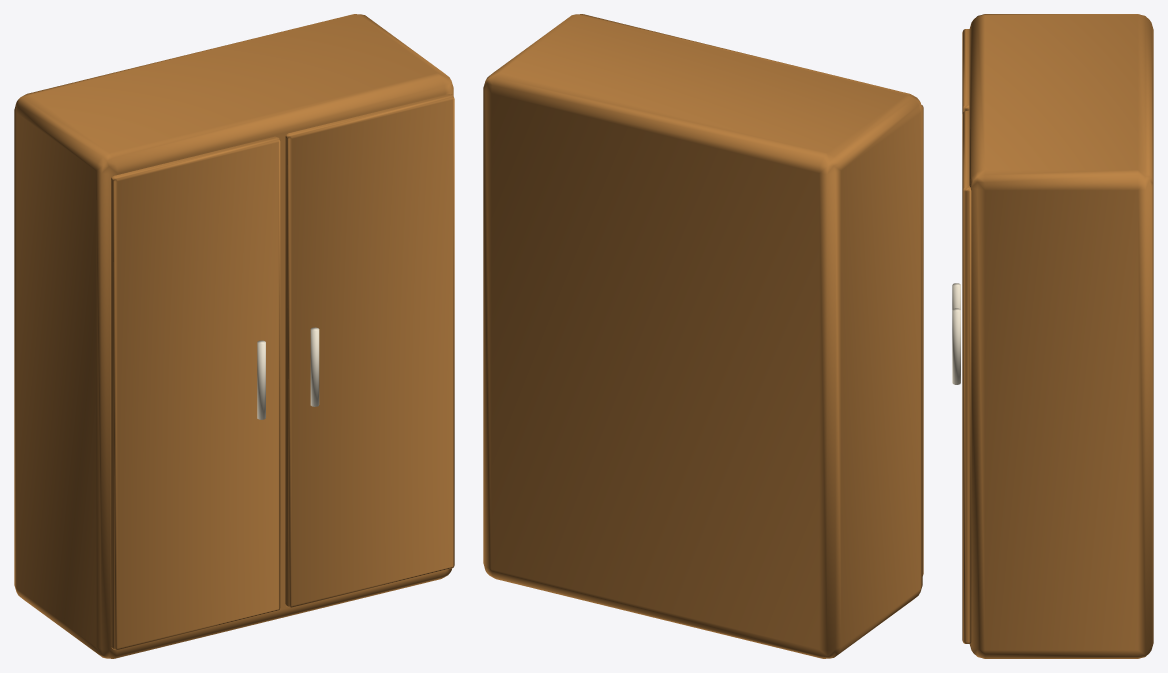
The model's file is home-wardrobe.glb.
3 views of the same model, side by side, from view 1: azimuth 30°, elevation 25°; view 2: azimuth 150°, elevation 25°; view 3: azimuth 270°, elevation 25° (orthographic). The views are drawn at different scales.
Visible parts, largest first — view 1: interior_3_wood.002, interior_3_ivory.002; view 2: interior_3_wood.002; view 3: interior_3_wood.002, interior_3_ivory.002.
Boxes of the visible parts, box(x1,y1,x2,y2) form: interior_3_wood.002: box(14, 14, 454, 658); interior_3_ivory.002: box(257, 327, 319, 419); interior_3_wood.002: box(483, 14, 923, 658); interior_3_wood.002: box(962, 14, 1153, 658); interior_3_ivory.002: box(952, 283, 960, 384).
Size of the model in its own units: 1.4 by 1.9 by 0.71.
